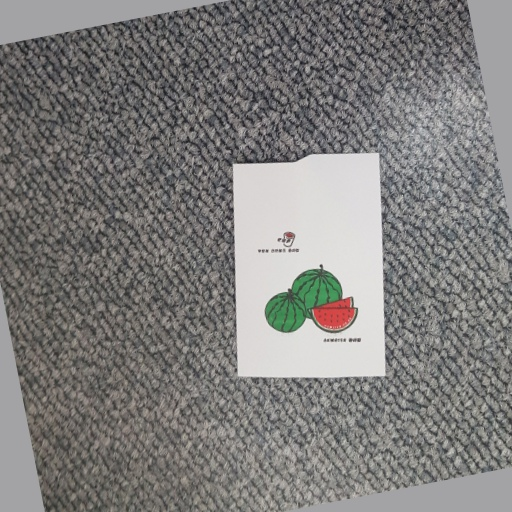Paper_2: (222, 138, 404, 408)
